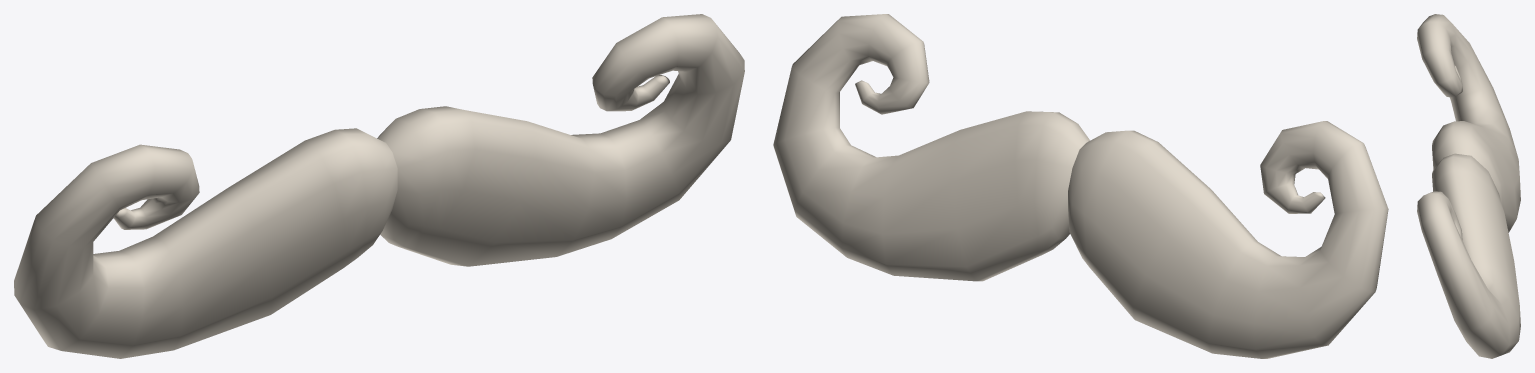
The model's file is Beard_16_07.fbx.
3 views of the same model, side by side, from view 1: azimuth 30°, elevation 25°; view 2: azimuth 150°, elevation 25°; view 3: azimuth 270°, elevation 25° (orthographic). The views are drawn at different scales.
Parts seen in each view (by area): view 1: Beard_16_07; view 2: Beard_16_07; view 3: Beard_16_07.
Part boxes in pixels (x1=…): Beard_16_07: x1=14, y1=14, x2=744, y2=358; Beard_16_07: x1=773, y1=14, x2=1388, y2=358; Beard_16_07: x1=1417, y1=14, x2=1520, y2=358.
Bounding box in the file's own units: 14.58 × 4.99 × 2.74.
